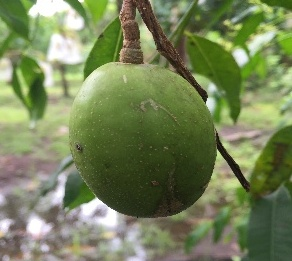Coc: (68, 62, 218, 220)
